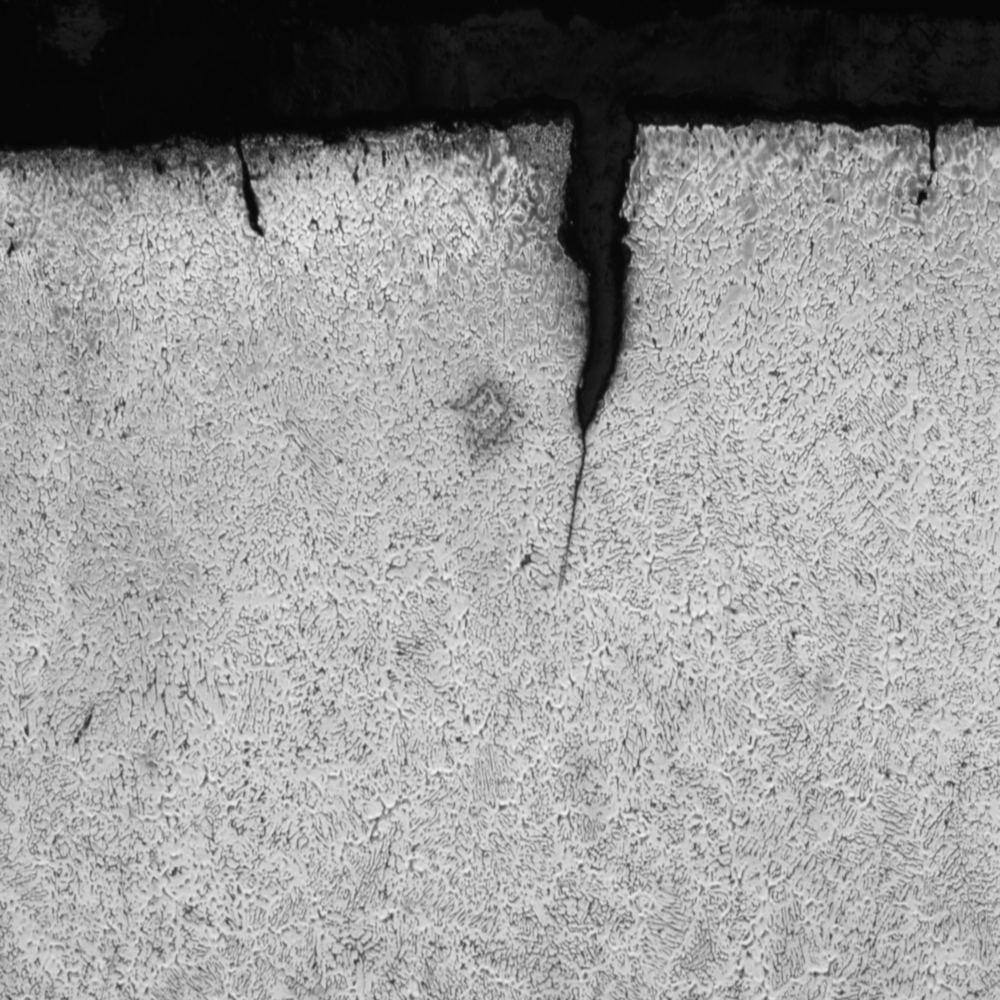crack: (522, 114, 674, 461), (217, 132, 281, 242), (906, 120, 958, 212)
